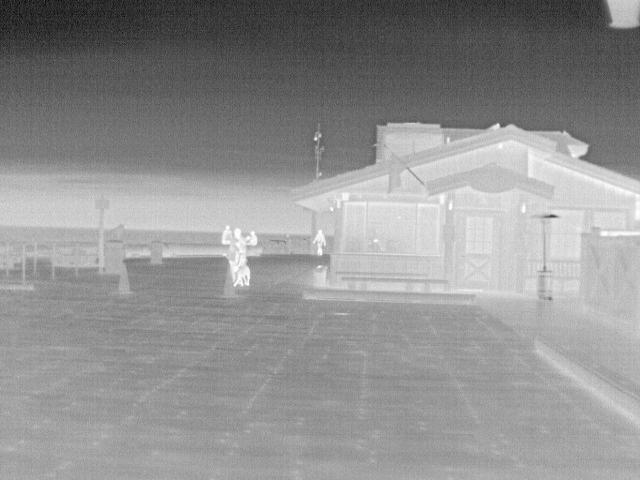dog: (228, 260, 255, 287)
person: (228, 227, 248, 269), (313, 228, 329, 257), (220, 226, 236, 246), (244, 230, 259, 244)
